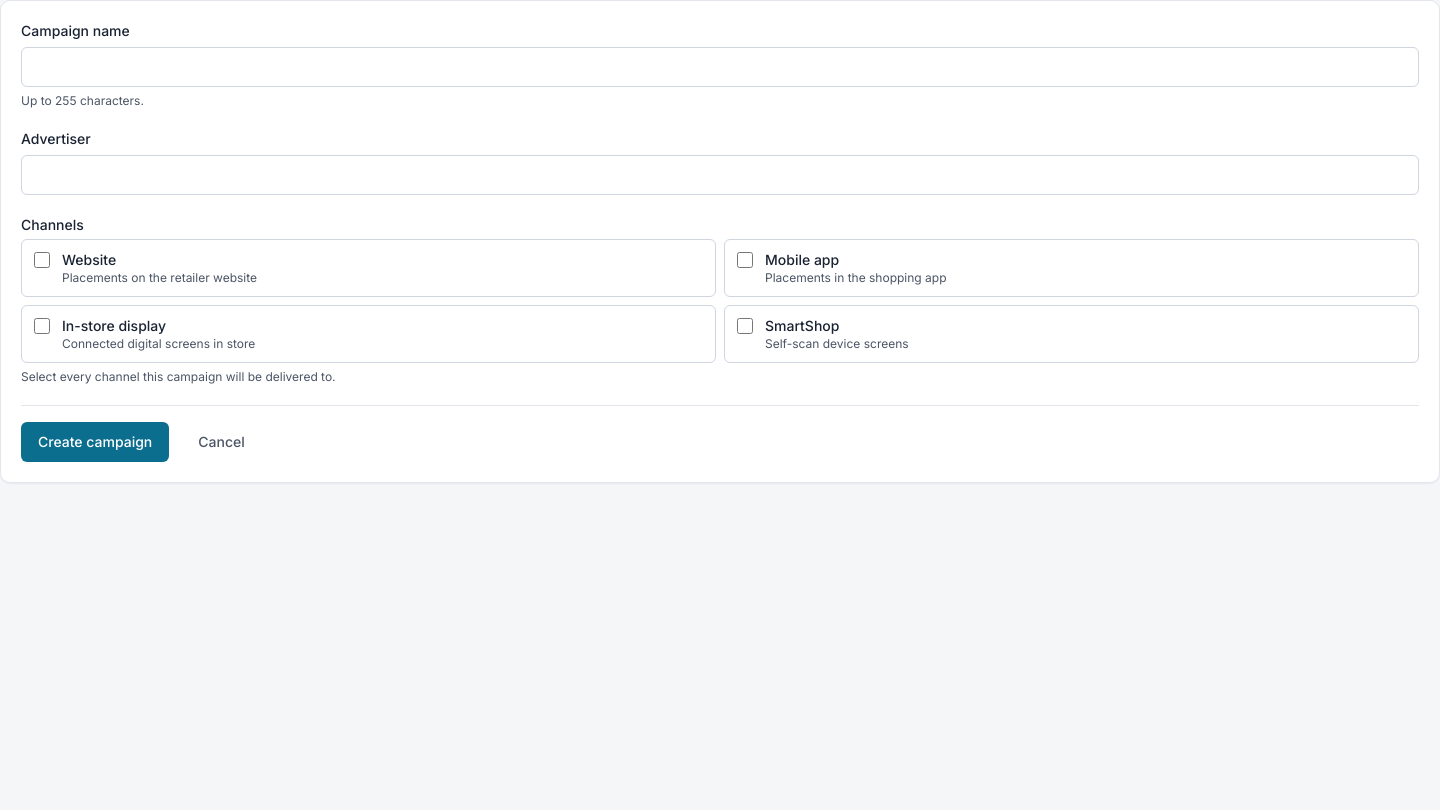
Scenario: CreateCampaignForm › shows validation messages tied to their fields and does not submit
The image size is (1440, 810).
Click the button "Create campaign" at (95,442), box [21, 422, 169, 462]
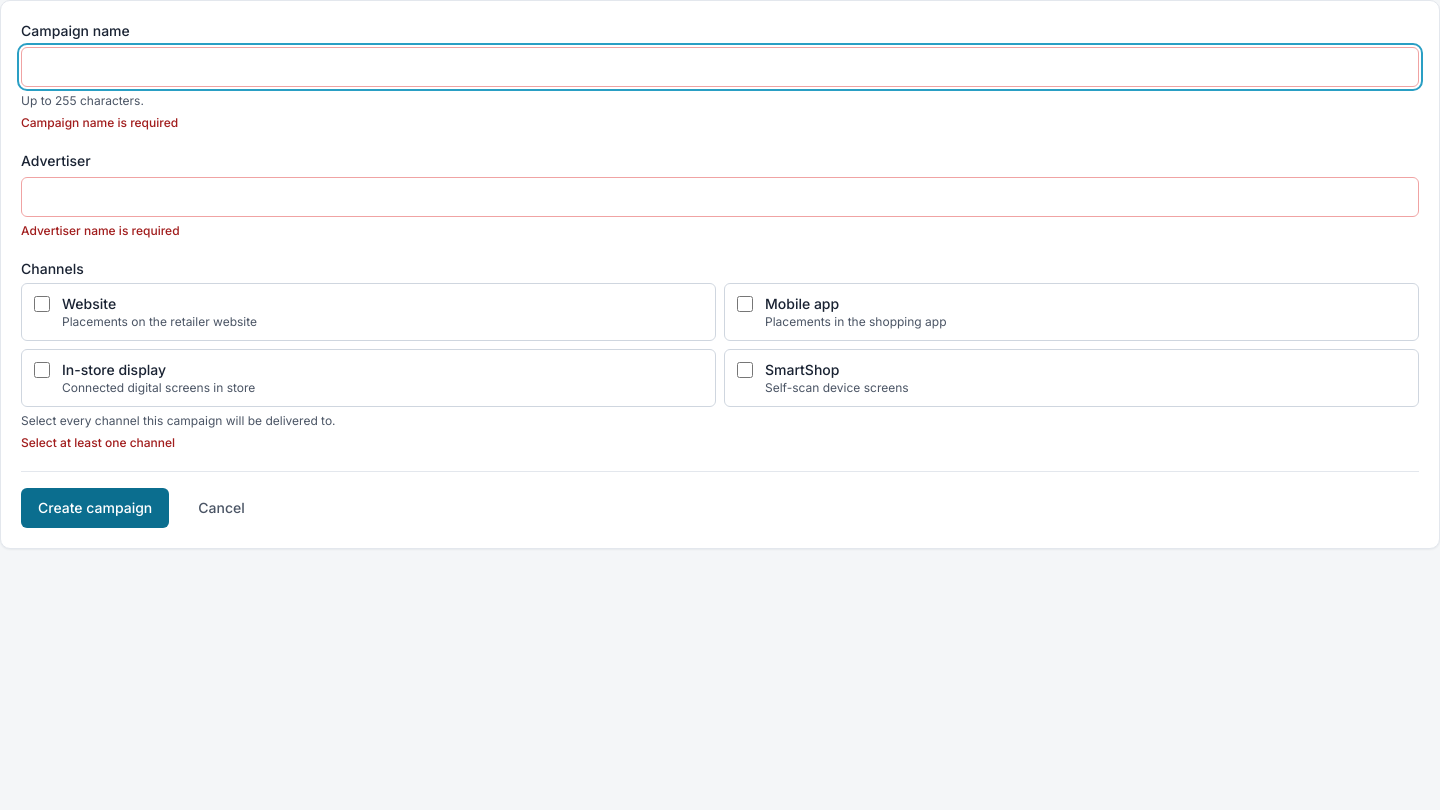
Expected: the text "Advertiser name is required" is shown, [21, 223, 180, 238]
Expected: the text "Select at least one channel" is shown, [21, 435, 175, 450]
